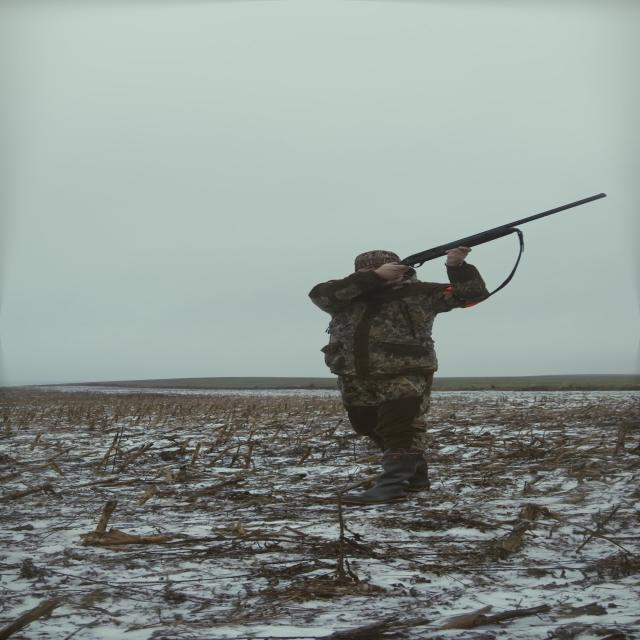Rifle: (388, 192, 618, 272)
